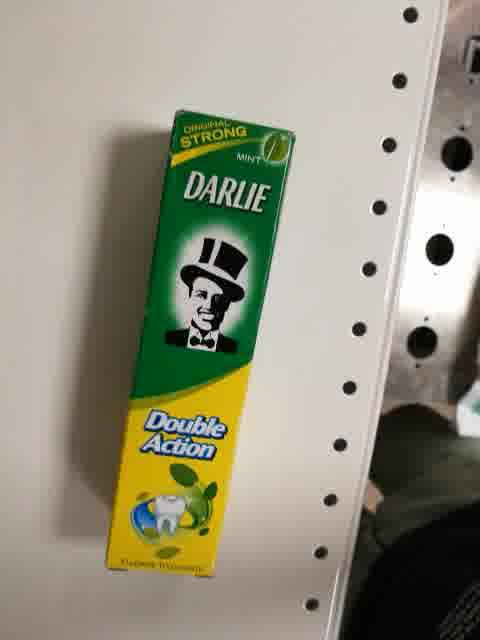toothpaste: (102, 106, 295, 580)
